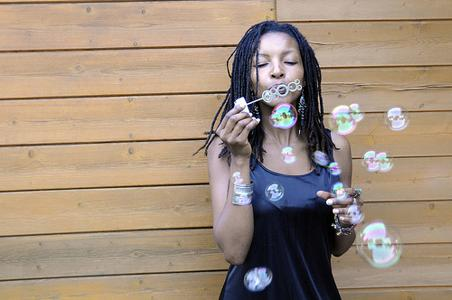person: (203, 21, 359, 293)
